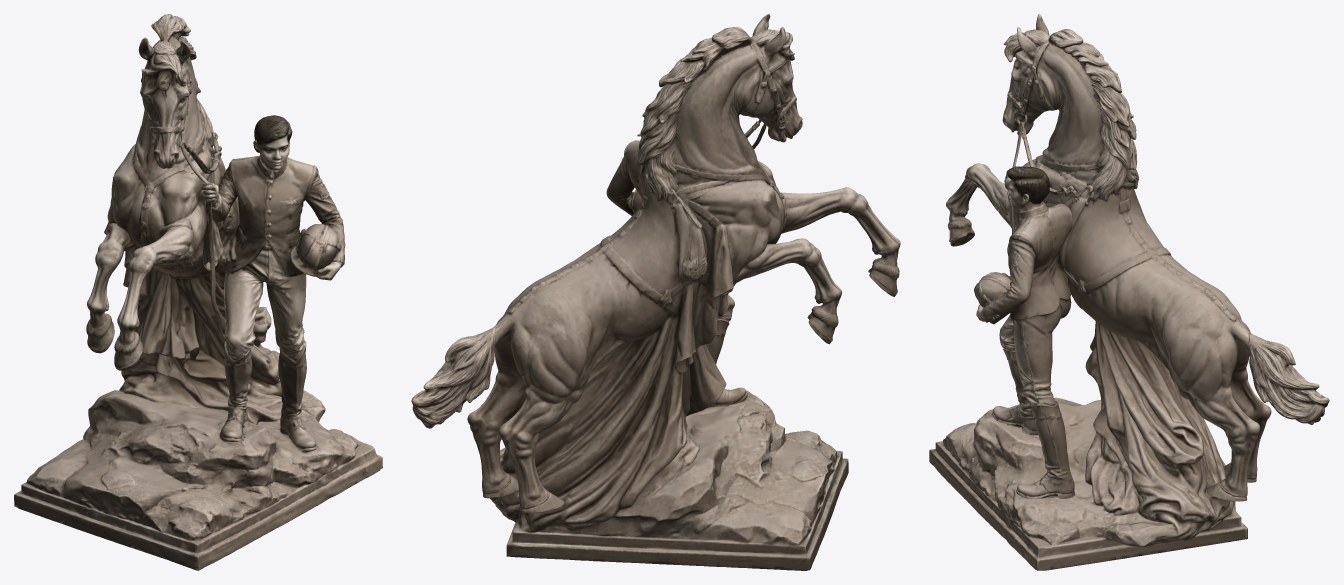
File: horse-statue-monument.glb
The picture shows the model from 3 angles, left to right: view 1: azimuth 30°, elevation 25°; view 2: azimuth 150°, elevation 25°; view 3: azimuth 270°, elevation 25°; orthographic projection. The views are drawn at different scales.
Parts seen in each view (by area): view 1: tripo_node_f8c8f904-67c4-4065-bebf-4361195b8ec5; view 2: tripo_node_f8c8f904-67c4-4065-bebf-4361195b8ec5; view 3: tripo_node_f8c8f904-67c4-4065-bebf-4361195b8ec5.
Part boxes in pixels (x1=…): tripo_node_f8c8f904-67c4-4065-bebf-4361195b8ec5: x1=14, y1=14, x2=382, y2=570; tripo_node_f8c8f904-67c4-4065-bebf-4361195b8ec5: x1=411, y1=14, x2=900, y2=570; tripo_node_f8c8f904-67c4-4065-bebf-4361195b8ec5: x1=929, y1=14, x2=1329, y2=570.
Size of the model in its own units: 0.6605 by 0.9786 by 0.7853.
Materials: 1 (1 with a texture image).
